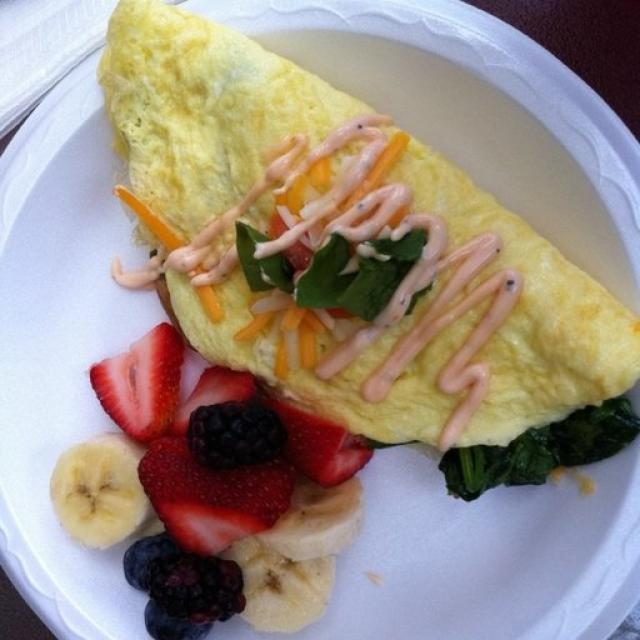telur_ayam_dadar: (96, 0, 640, 453)
